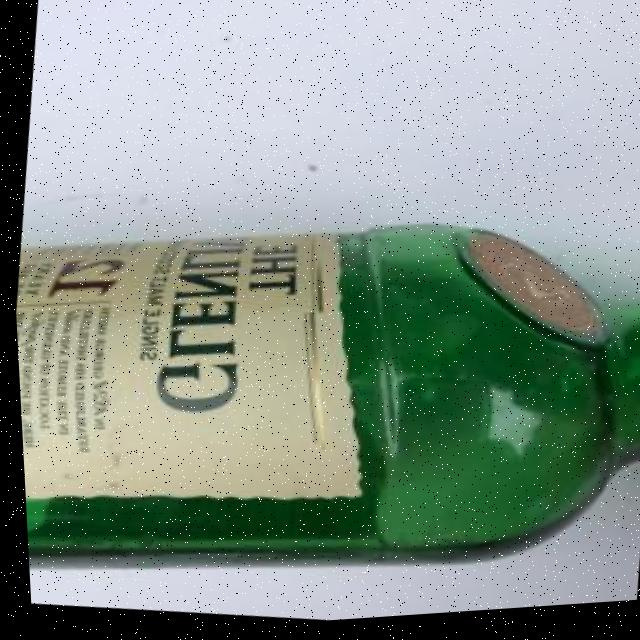glass: (8, 161, 640, 640)
